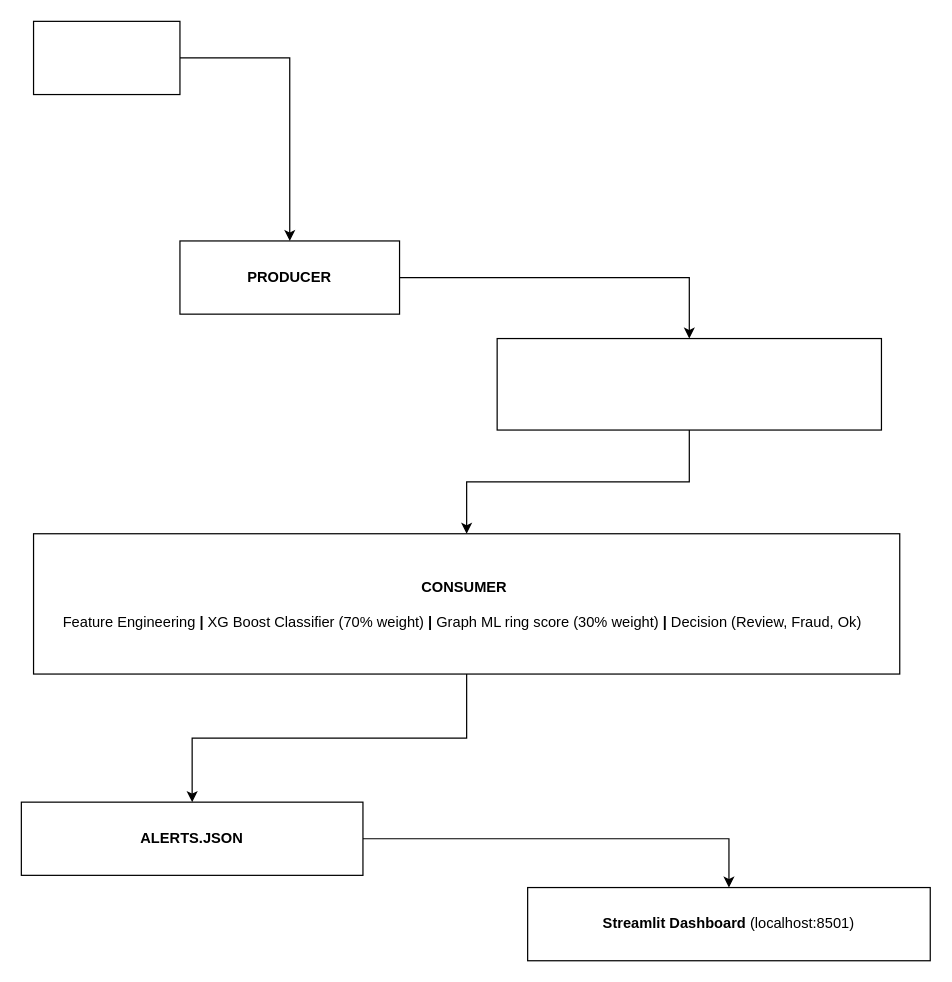
Image size: 952x982. Some labels were removed from this diagram. The centre of each missing label's shape, as x and y in pixels:
APACHE KAFKA ( transactions) TOPIC: point (688, 383)
CSV (Dataset): point (106, 57)
